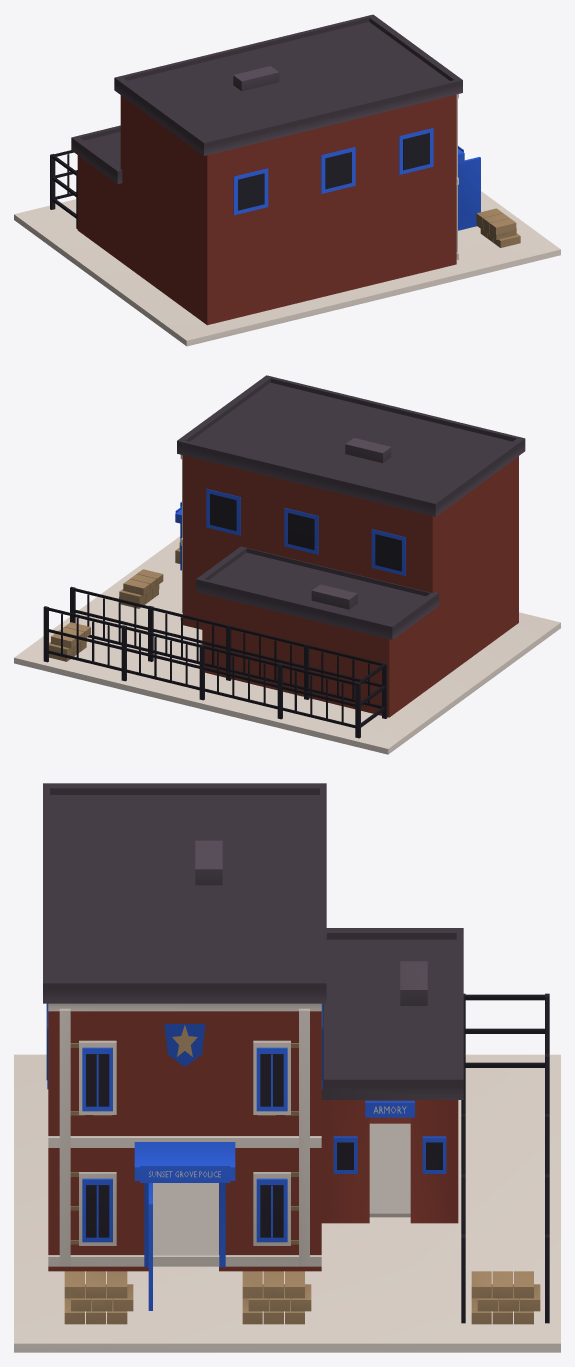
The model's file is bld.police.lod1.glb.
The picture shows the model from 3 angles, top to bottom: view 1: azimuth 30°, elevation 25°; view 2: azimuth 150°, elevation 25°; view 3: azimuth 270°, elevation 25°; orthographic projection. The views are drawn at different scales.
Parts seen in each view (by area): view 1: body, roof, doorMain; view 2: body, roof; view 3: body, roof, interior.
Boxes of the visible parts, bbox=[...] form: body: bbox=[14, 94, 560, 346]; roof: bbox=[71, 14, 462, 183]; doorMain: bbox=[458, 157, 480, 230]; body: bbox=[14, 455, 560, 754]; roof: bbox=[177, 375, 525, 639]; body: bbox=[14, 993, 560, 1352]; roof: bbox=[43, 783, 463, 1099]; interior: bbox=[153, 1123, 410, 1254].
Bounding box in the file's own units: 10 × 5 × 8.
